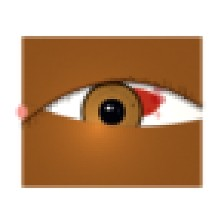hemorrhage_spot: (88, 70, 171, 136)
